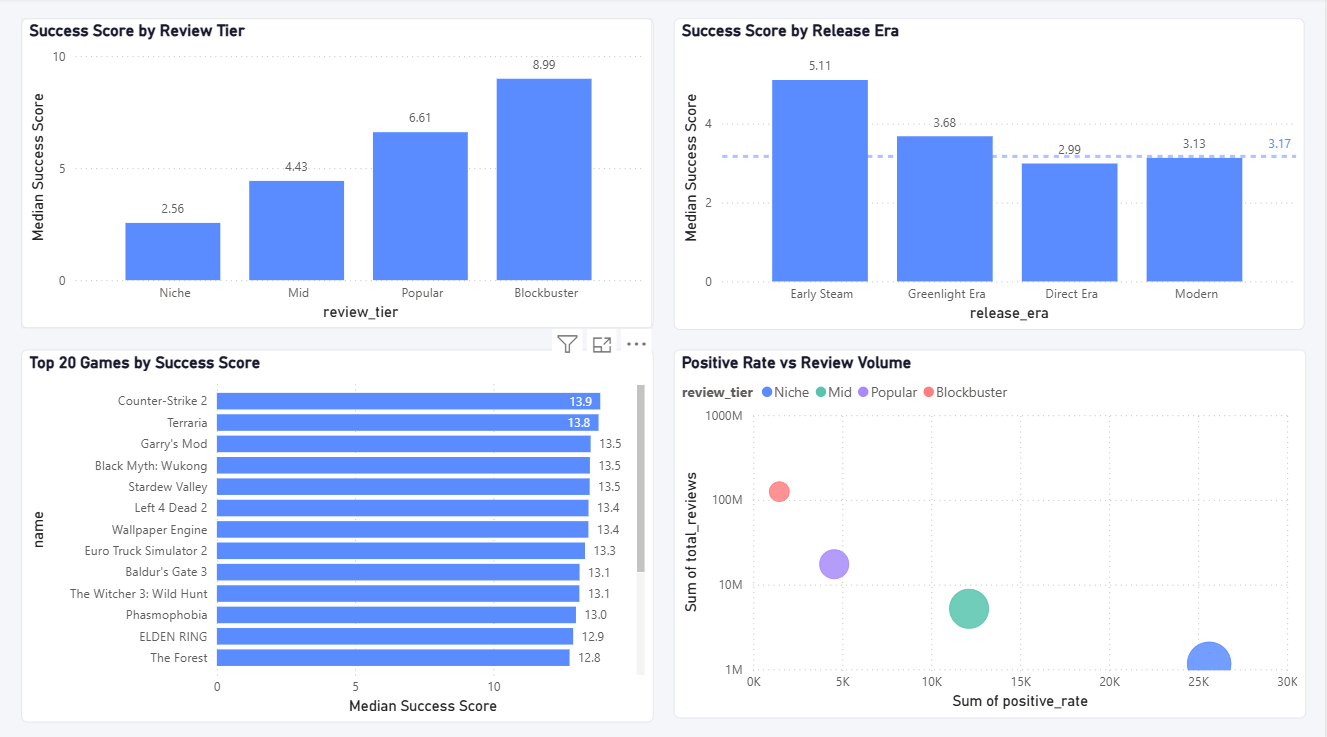

This screenshot's page, from the dashboard's own definition file:
{"tool":"powerbi","page":{"name":"Success Analysis","canvas":[1280,720],"ordinal":1},"visuals":[{"type":"clusteredBarChart","title":"Top 20 Games by Success Score","fields":{"Category":["df.name"],"Y":["df.Median Success Score"]},"box":[20,340,610,360],"z":0},{"type":"clusteredColumnChart","title":"Success Score by Review Tier","fields":{"Category":["df.review_tier"],"Y":["df.Median Success Score"]},"box":[20,20,610.2,299.6],"z":1000},{"type":"clusteredColumnChart","title":"Success Score by Release Era","fields":{"Category":["df.release_era"],"Y":["df.Median Success Score"]},"box":[650,20,609,300.8],"z":2000},{"type":"scatterChart","title":"Positive Rate vs Review Volume","fields":{"X":["Sum(df.positive_rate)"],"Y":["Sum(df.total_reviews)"],"Series":["df.review_tier"],"Size":["Sum(df.success_score)"]},"box":[650.5,340,610,356],"z":3000}]}

Visuals, with their boxes in screenshot pixels (x1, y1, x2, y2), scaled from the page's 1280x720 canvas onto the 1327x737 screenshot:
"Top 20 Games by Success Score" clusteredBarChart: <bbox>21, 348, 653, 717</bbox>
"Success Score by Review Tier" clusteredColumnChart: <bbox>21, 20, 653, 327</bbox>
"Success Score by Release Era" clusteredColumnChart: <bbox>674, 20, 1305, 328</bbox>
"Positive Rate vs Review Volume" scatterChart: <bbox>674, 348, 1307, 712</bbox>
